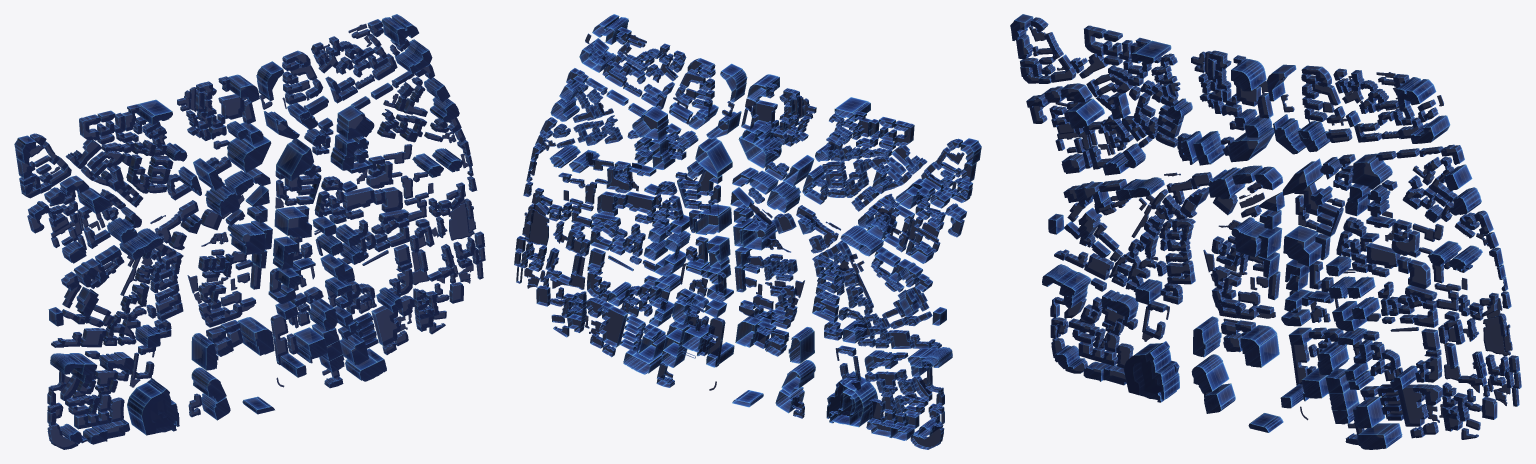
3 views of the same model, side by side, from view 1: azimuth 30°, elevation 25°; view 2: azimuth 150°, elevation 25°; view 3: azimuth 330°, elevation 25° (orthographic). The views are drawn at different scales.
Bounding box in the file's own units: 1477 × 1061 × 104.
2 materials, 2 textured.
